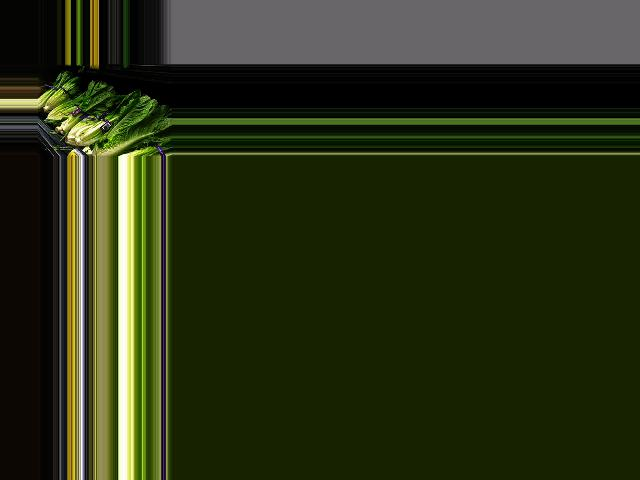lettuce: (93, 98, 170, 152)
